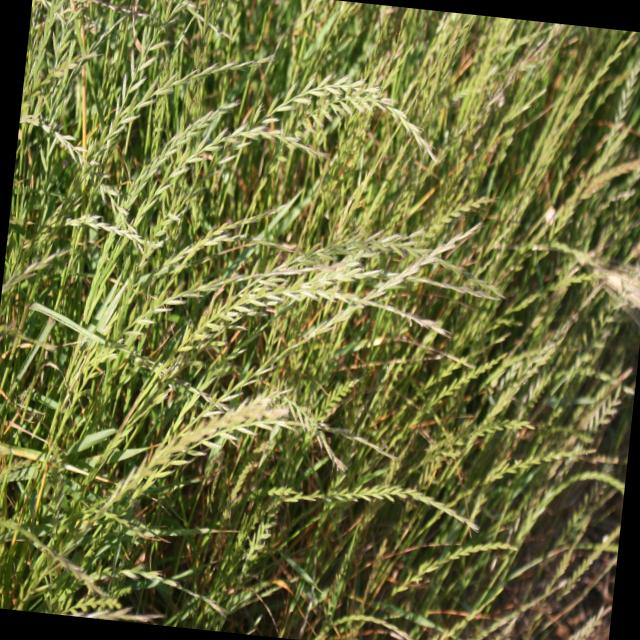Lolium: (82, 47, 446, 348), (174, 200, 514, 388), (43, 36, 277, 278), (93, 101, 330, 324), (98, 378, 353, 540), (103, 84, 240, 266), (413, 430, 600, 554), (522, 22, 634, 212), (382, 334, 510, 470), (258, 472, 482, 532), (382, 526, 523, 620), (0, 515, 119, 601), (33, 0, 76, 210), (574, 262, 636, 383), (394, 350, 466, 428), (572, 377, 626, 454), (604, 46, 640, 158)
